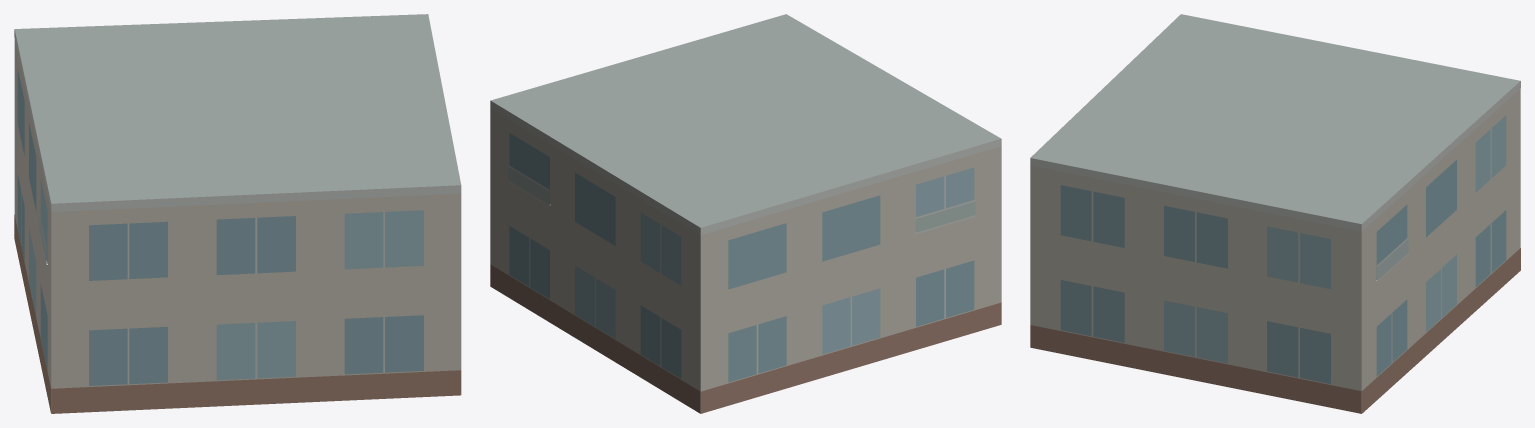
File: survey-upis-32669519.glb
The picture shows the model from 3 angles, left to right: view 1: azimuth 30°, elevation 25°; view 2: azimuth 150°, elevation 25°; view 3: azimuth 270°, elevation 25°; orthographic projection. The views are drawn at different scales.
Parts seen in each view (by area): view 1: survey-upis-32669519.tmp; view 2: survey-upis-32669519.tmp; view 3: survey-upis-32669519.tmp.
Part boxes in pixels (bbox=[...]): survey-upis-32669519.tmp: bbox=[14, 14, 461, 413]; survey-upis-32669519.tmp: bbox=[490, 14, 1001, 413]; survey-upis-32669519.tmp: bbox=[1030, 14, 1520, 413].
Size of the model in its own units: 14.51 by 6.1 by 14.31.
